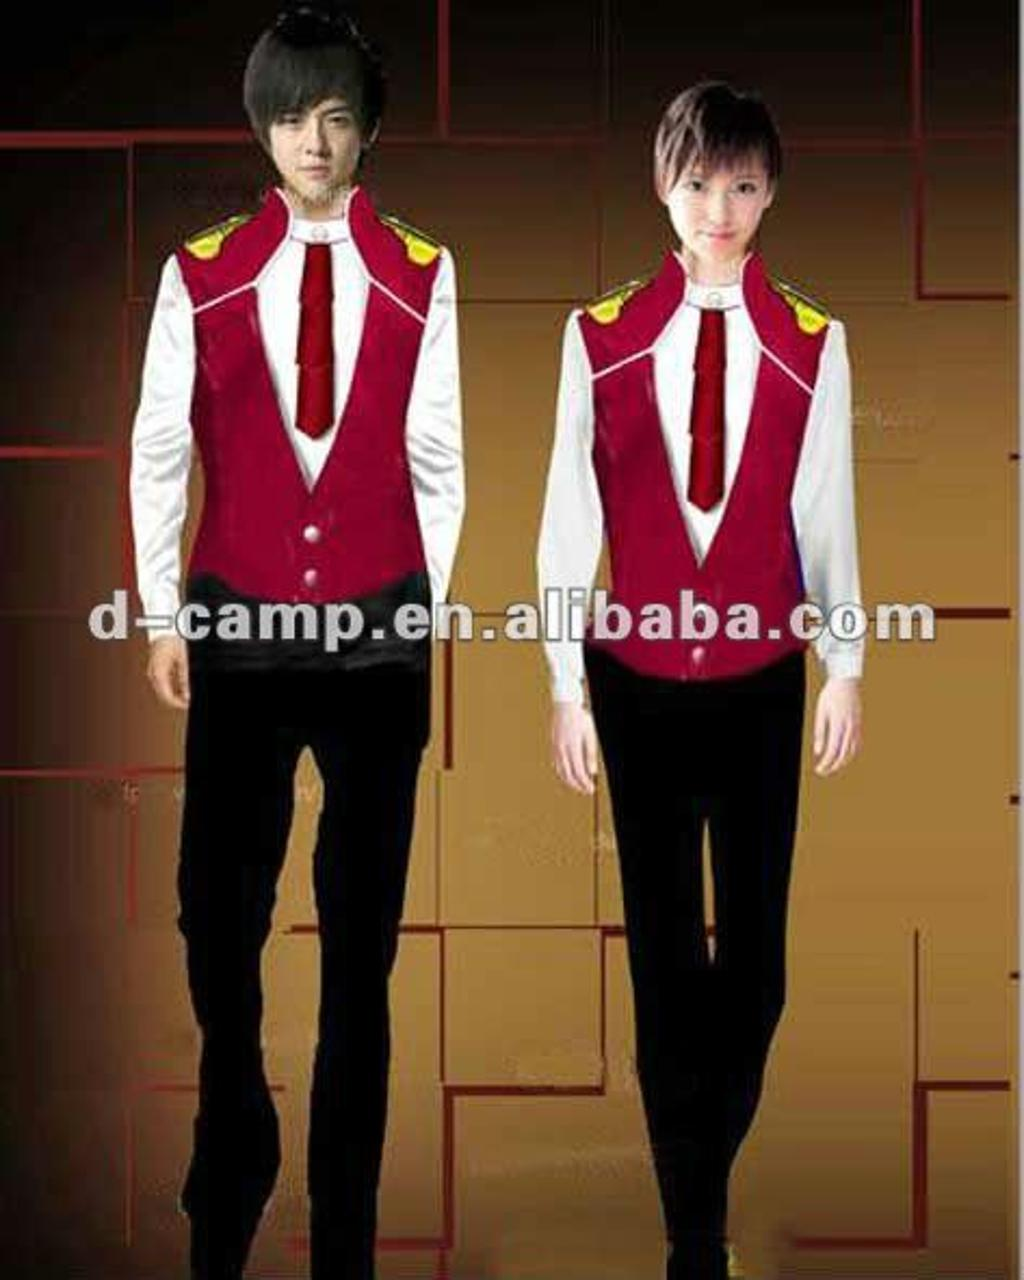face: (260, 67, 362, 194), (672, 130, 767, 262)
